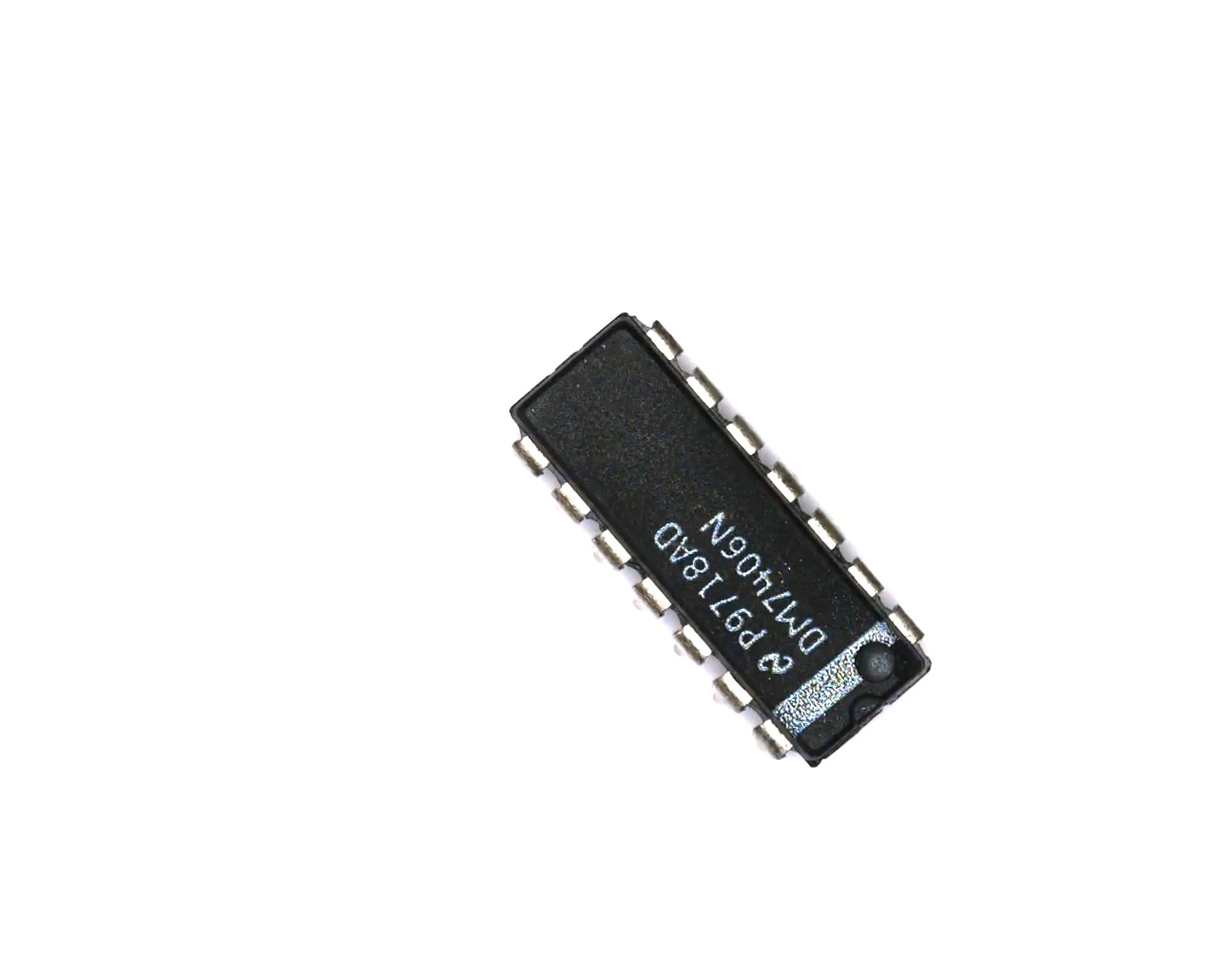IC: (465, 280, 970, 805)
notch: (843, 691, 890, 737)
